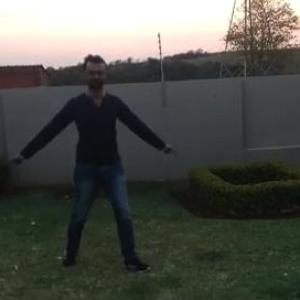land: (39, 68, 150, 230)
